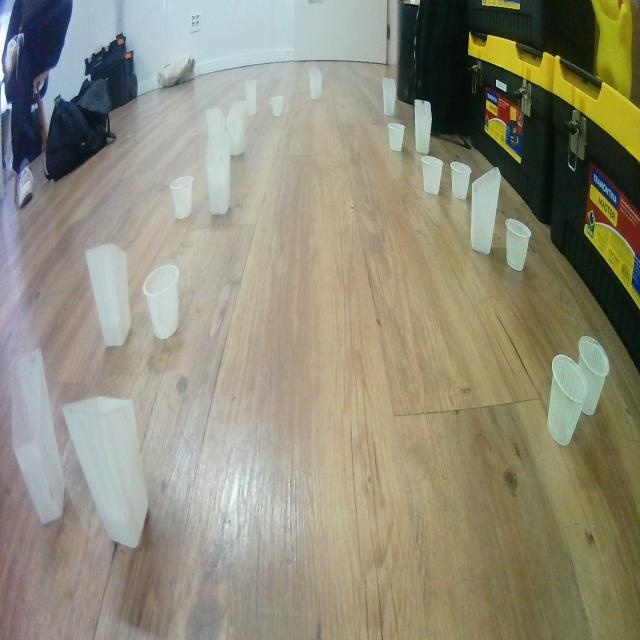erva_daninha: (61, 394, 149, 549), (10, 346, 68, 526), (84, 241, 133, 349), (470, 167, 502, 256), (204, 131, 232, 216), (226, 101, 246, 157), (413, 98, 432, 155), (205, 106, 225, 138), (244, 80, 258, 118), (383, 76, 395, 117), (309, 68, 322, 101)
planta: (546, 353, 589, 448), (142, 263, 181, 340), (576, 334, 610, 417), (505, 218, 532, 273), (170, 176, 194, 220), (449, 160, 472, 201), (421, 154, 443, 196), (387, 121, 406, 152), (271, 96, 284, 118)
